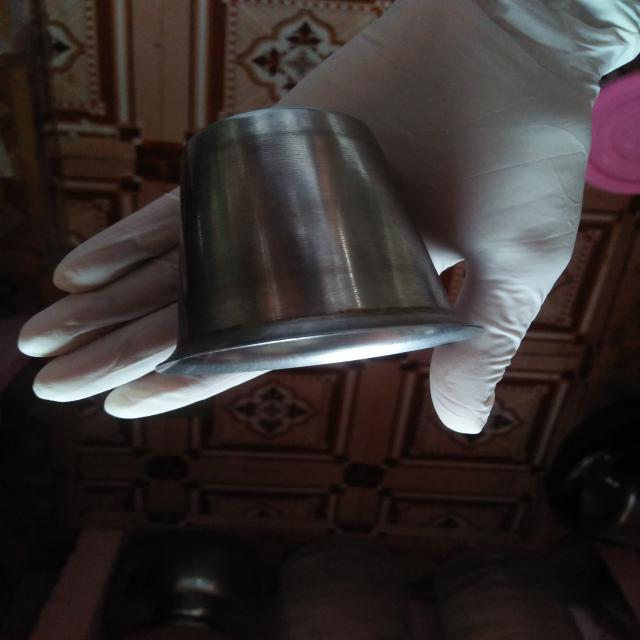gloved_hand: (9, 0, 638, 437)
